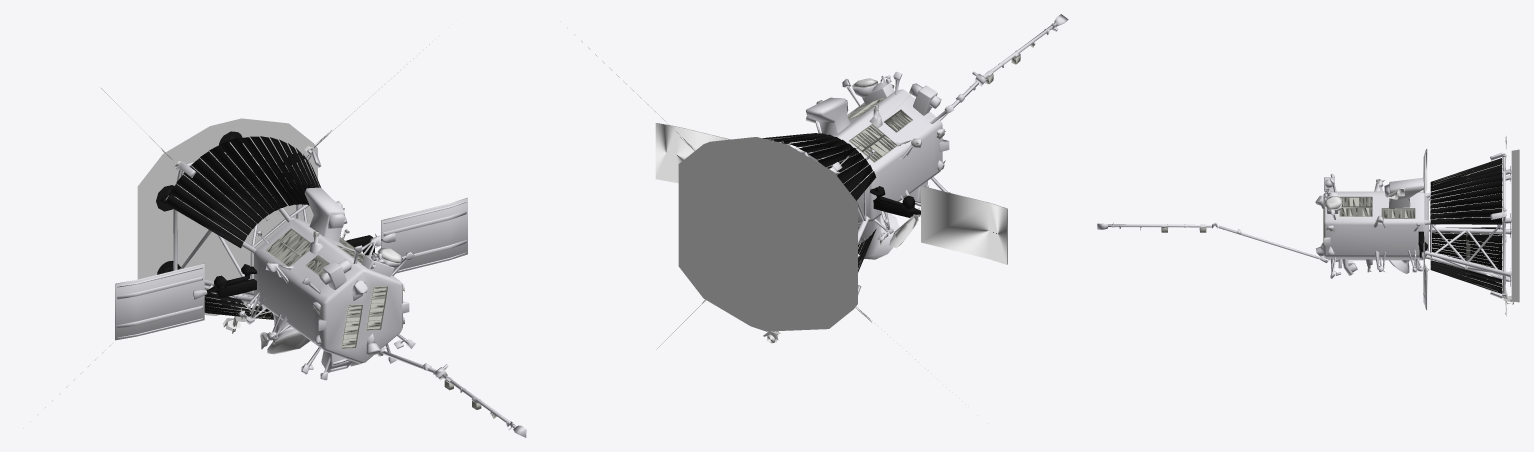
Rendered from parker-solar-probe-craft.glb.
The picture shows the model from 3 angles, left to right: view 1: azimuth 30°, elevation 25°; view 2: azimuth 150°, elevation 25°; view 3: azimuth 270°, elevation 25°; orthographic projection. The views are drawn at different scales.
Parts seen in each view (by area): view 1: craft; view 2: craft; view 3: craft.
Part boxes in pixels (left/top/right/bottom): craft: left=23, top=41, right=526, bottom=437; craft: left=574, top=14, right=1068, bottom=362; craft: left=1097, top=135, right=1519, bottom=316.
Bounding box in the file's own units: 2.4 × 2.2 × 2.76.
1 material, 1 textured.
